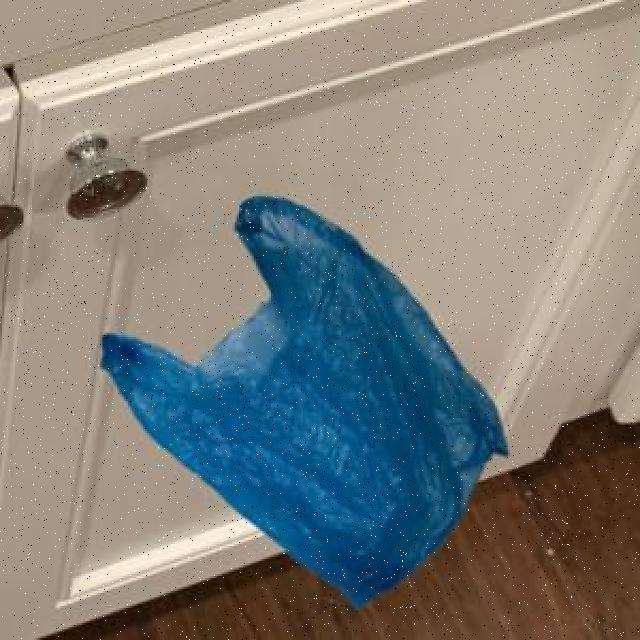plastic_bag: (101, 196, 512, 605)
